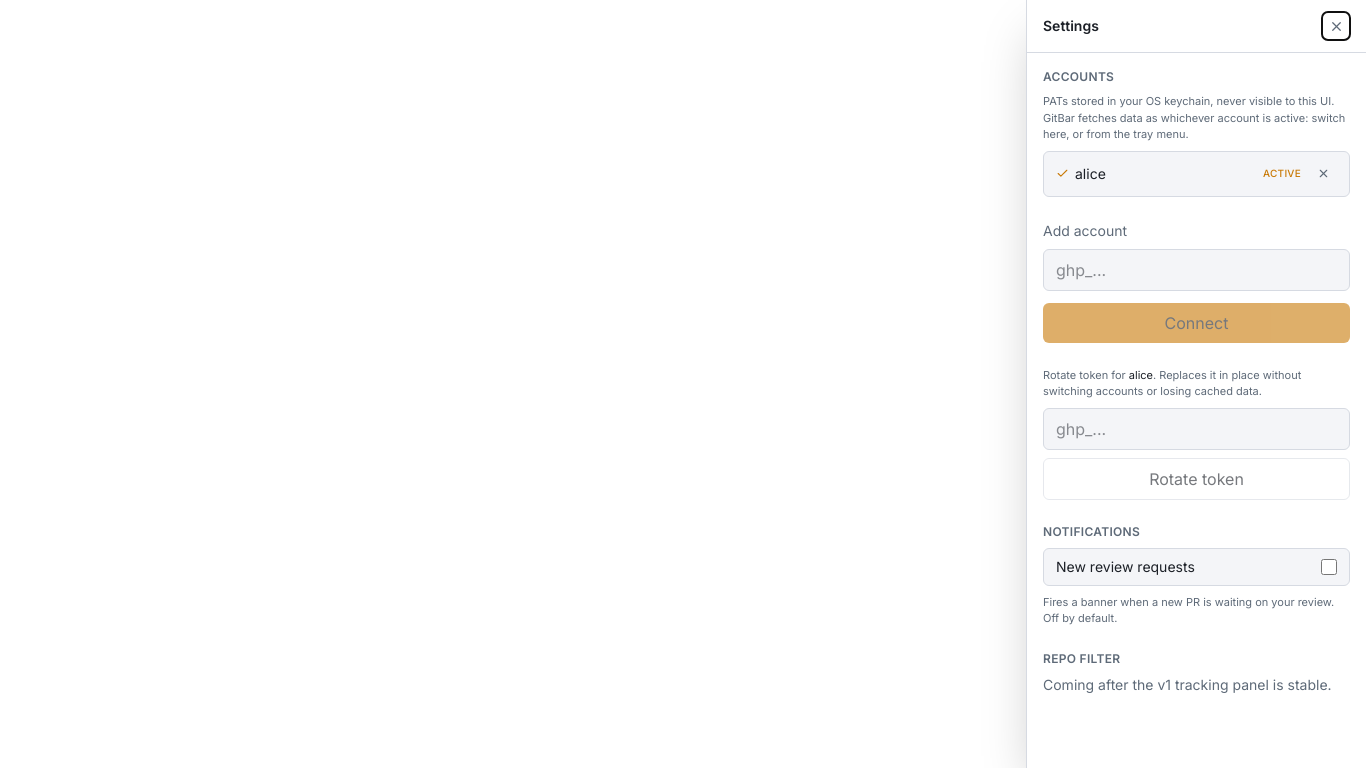
Test case: Settings › disables the Add-account Connect button until a token is typed
Expected: the button "Connect" is disabled, [1043,302,1350,342]
Type "ghp_xyz" into the password field with placeholder "ghp_...".
click(1196, 270); type("ghp_xyz")  # box [1043,248,1350,290]
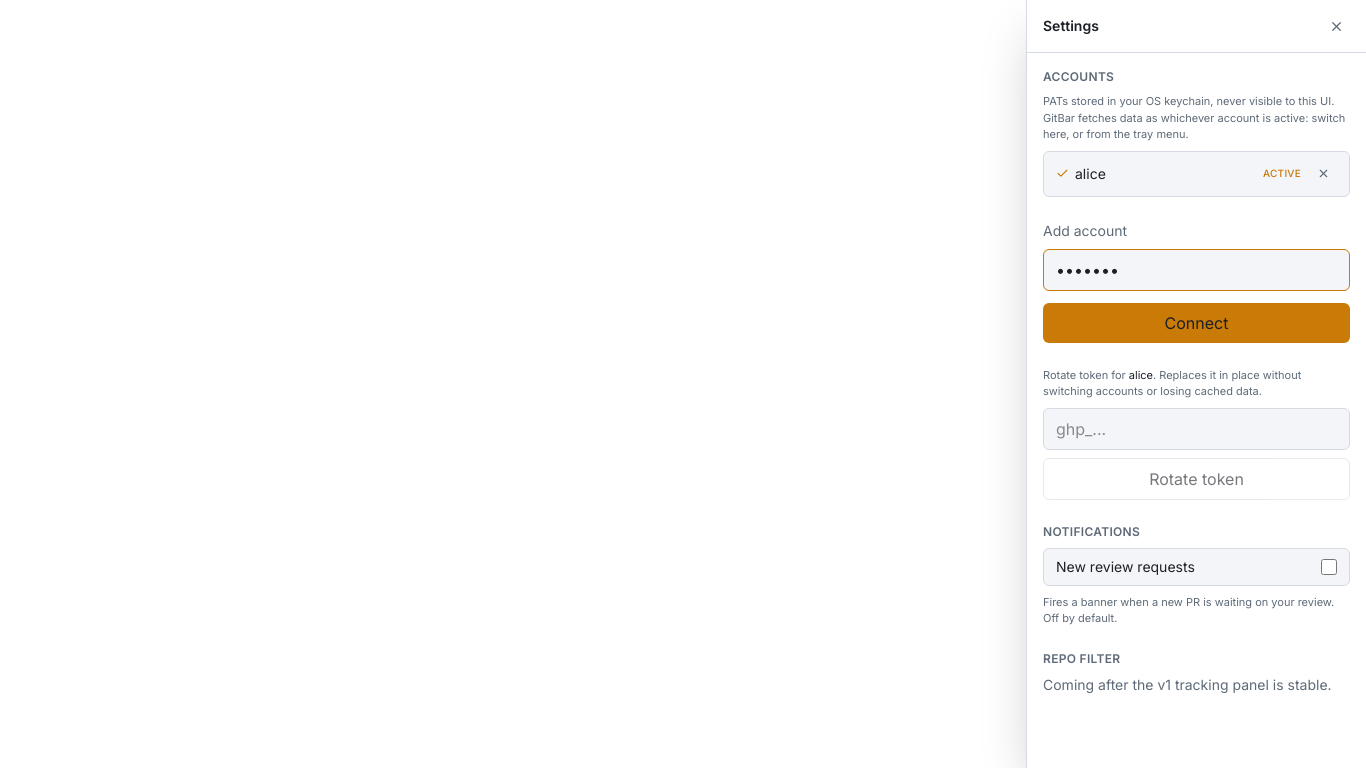
Now the button "Connect" is enabled, box [1043,302,1350,342]
